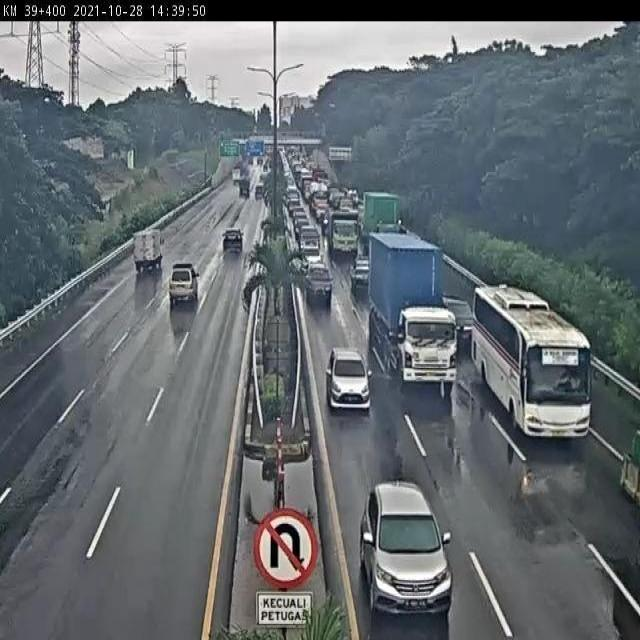Bus: (470, 282, 591, 435)
Car: (359, 480, 453, 621), (325, 346, 371, 413), (303, 261, 333, 308), (169, 262, 200, 306), (350, 252, 370, 297), (298, 232, 320, 261), (222, 229, 243, 252)
Truck: (367, 228, 461, 398), (329, 209, 360, 258), (132, 230, 164, 266)
